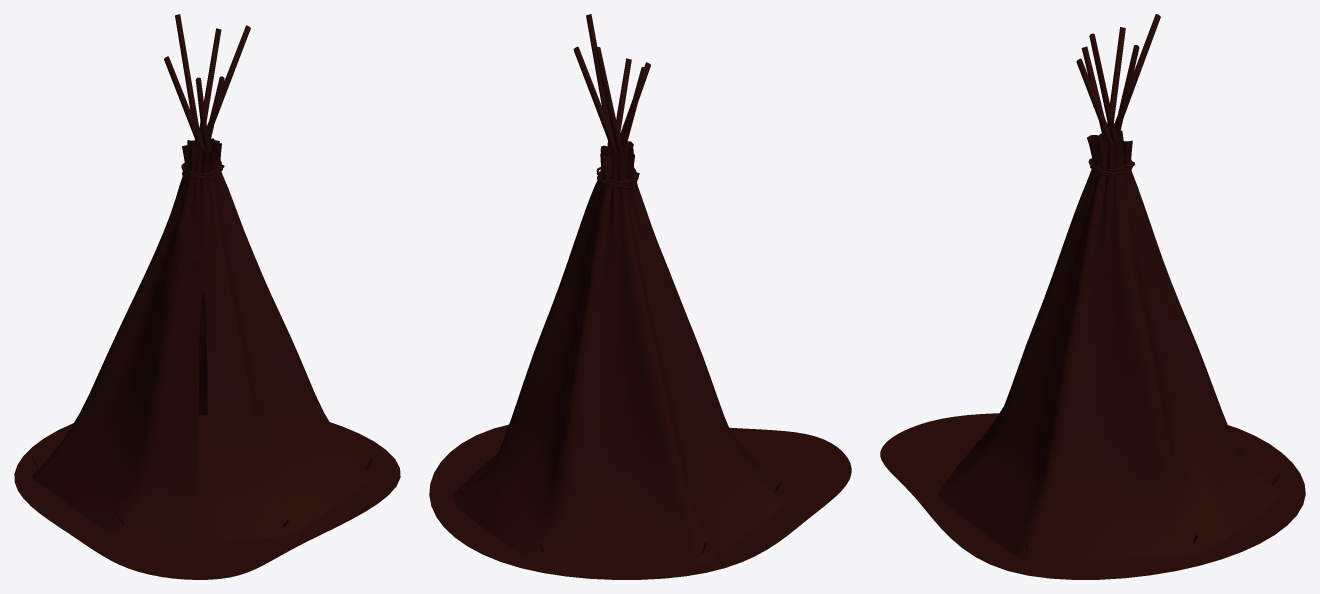
Rendered from teepee.dae.
3 views of the same model, side by side, from view 1: azimuth 30°, elevation 25°; view 2: azimuth 150°, elevation 25°; view 3: azimuth 270°, elevation 25° (orthographic). The views are drawn at different scales.
Parts seen in each view (by area): view 1: teepee_model; view 2: teepee_model; view 3: teepee_model.
Part boxes in pixels (left/top/right/bottom): teepee_model: left=14, top=14, right=400, bottom=579; teepee_model: left=429, top=14, right=851, bottom=579; teepee_model: left=880, top=14, right=1305, bottom=579.
Size of the model in its own units: 1.51 by 2 by 1.61.
